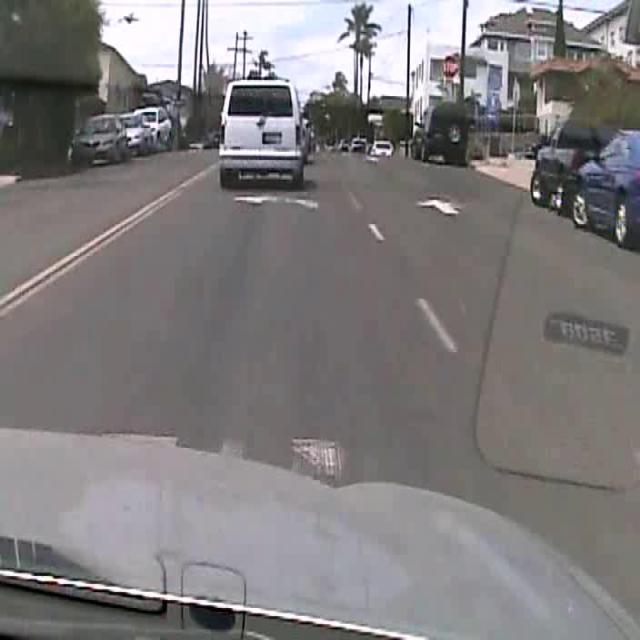stop: (441, 54, 458, 78)
